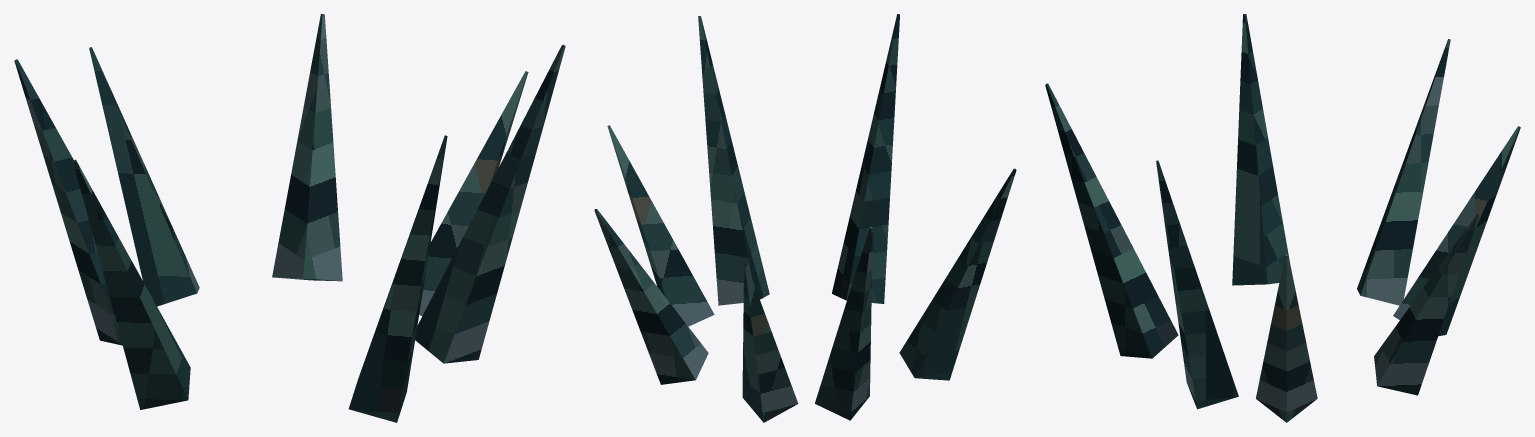
Rendered from enfeite_capim.fbx.
3 renders of one model, left to right at view 1: azimuth 30°, elevation 25°; view 2: azimuth 150°, elevation 25°; view 3: azimuth 270°, elevation 25°, orthographic. The views are drawn at different scales.
Parts seen in each view (by area): view 1: pedreira_enfeite_capim; view 2: pedreira_enfeite_capim; view 3: pedreira_enfeite_capim.
Boxes of the visible parts, x1,y1,x2,y2 form: pedreira_enfeite_capim: (14, 14, 565, 422); pedreira_enfeite_capim: (594, 14, 1016, 422); pedreira_enfeite_capim: (1045, 14, 1520, 422).
Size of the model in its own units: 27.97 by 17.84 by 27.65.
Materials: 1 (1 with a texture image).
